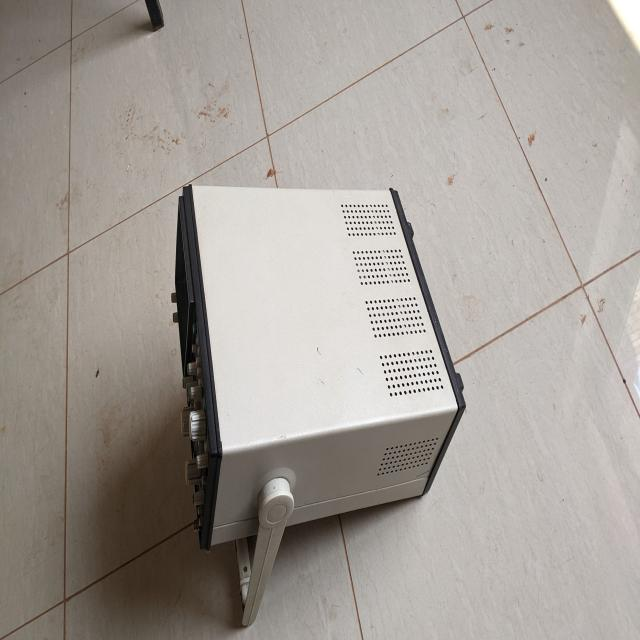Cathode Ray Oscilloscope: (164, 153, 471, 617)
